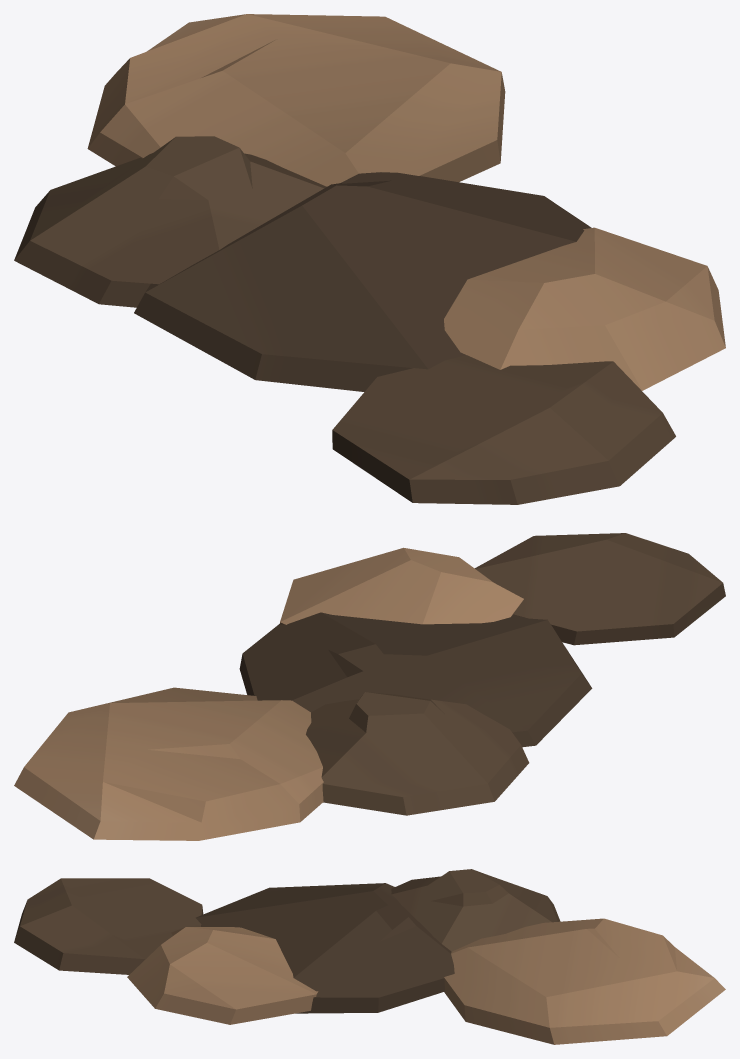
The model's file is ea_swamp_grass_hill_dead_01c_pre_1_lev1.glb.
3 renders of one model, top to bottom at view 1: azimuth 30°, elevation 25°; view 2: azimuth 150°, elevation 25°; view 3: azimuth 270°, elevation 25°, orthographic. The views are drawn at different scales.
Visible parts, largest first — view 1: ea_swamp_grass_hill_dead_01c_pre_1_lev1; view 2: ea_swamp_grass_hill_dead_01c_pre_1_lev1; view 3: ea_swamp_grass_hill_dead_01c_pre_1_lev1.
Boxes of the visible parts, bbox=[...] form: ea_swamp_grass_hill_dead_01c_pre_1_lev1: bbox=[14, 14, 725, 504]; ea_swamp_grass_hill_dead_01c_pre_1_lev1: bbox=[14, 533, 725, 840]; ea_swamp_grass_hill_dead_01c_pre_1_lev1: bbox=[14, 869, 725, 1044].
Bounding box in the file's own units: 1.54 × 0.2231 × 2.86.
1 material, 1 textured.
